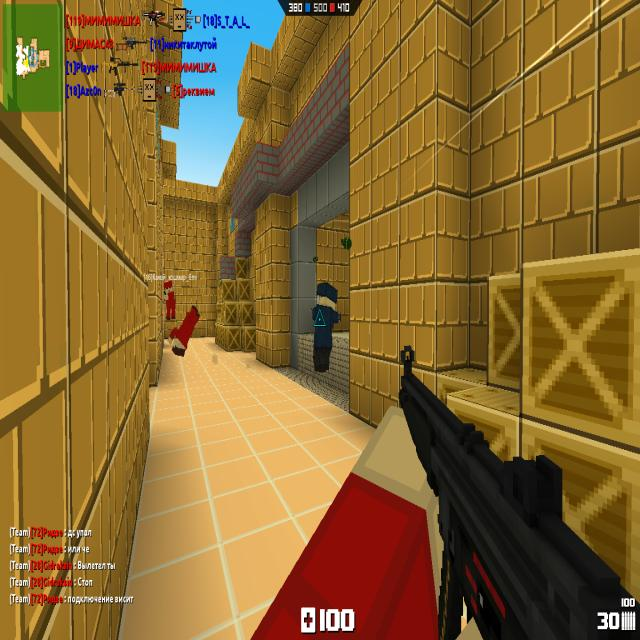enemy: (312, 282, 338, 372)
